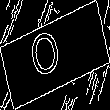O_S: (36, 24, 74, 86)
